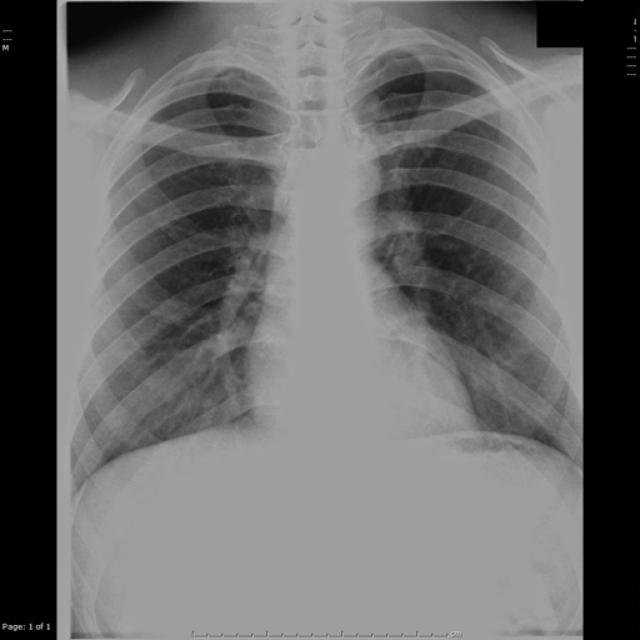tuberculosis: (58, 4, 584, 640)
